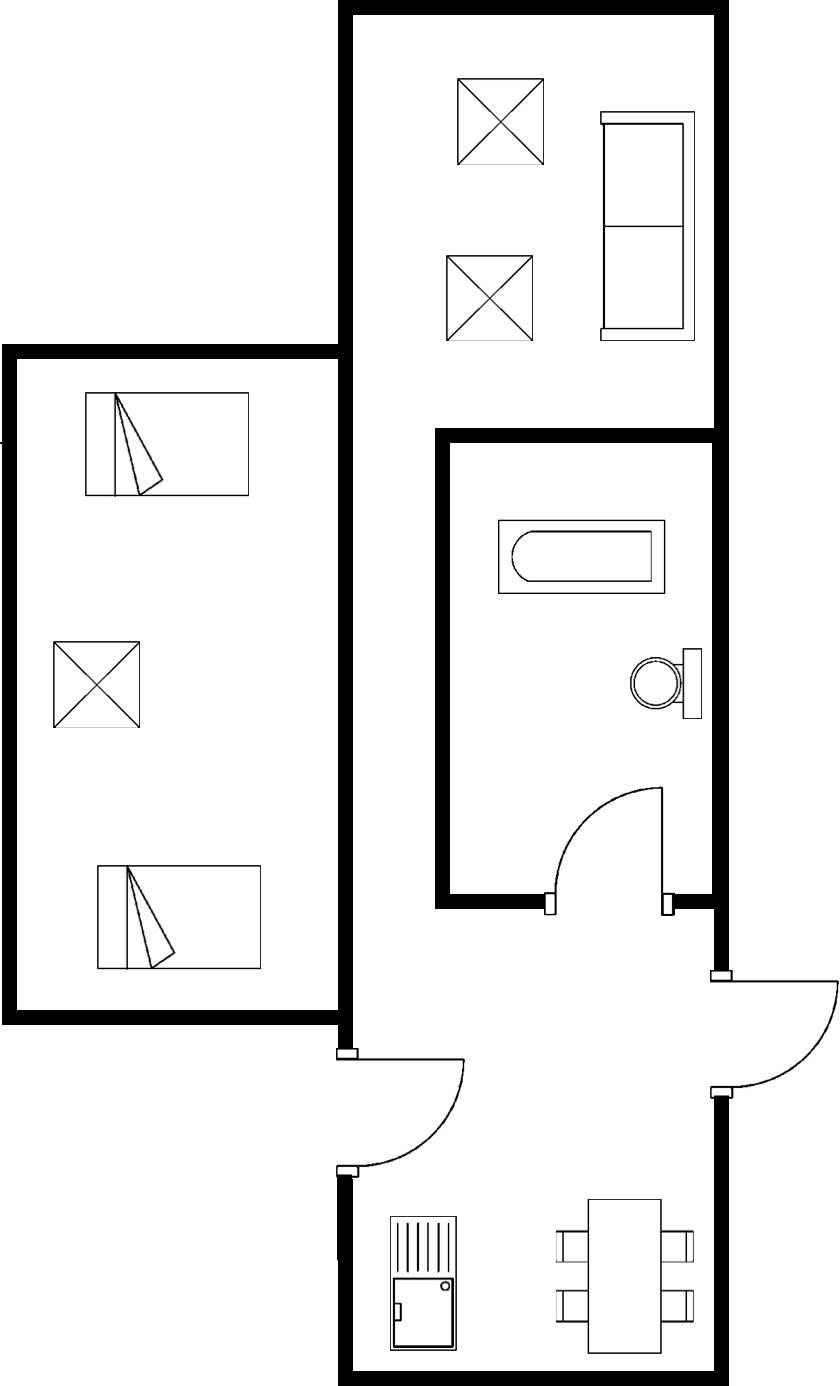bed: (75, 382, 260, 508), (84, 856, 268, 979)
dining_table: (540, 1187, 706, 1362)
sink: (376, 1203, 469, 1362)
sofa: (592, 101, 703, 347)
toilet: (623, 639, 708, 728)
tub: (491, 514, 675, 601)
